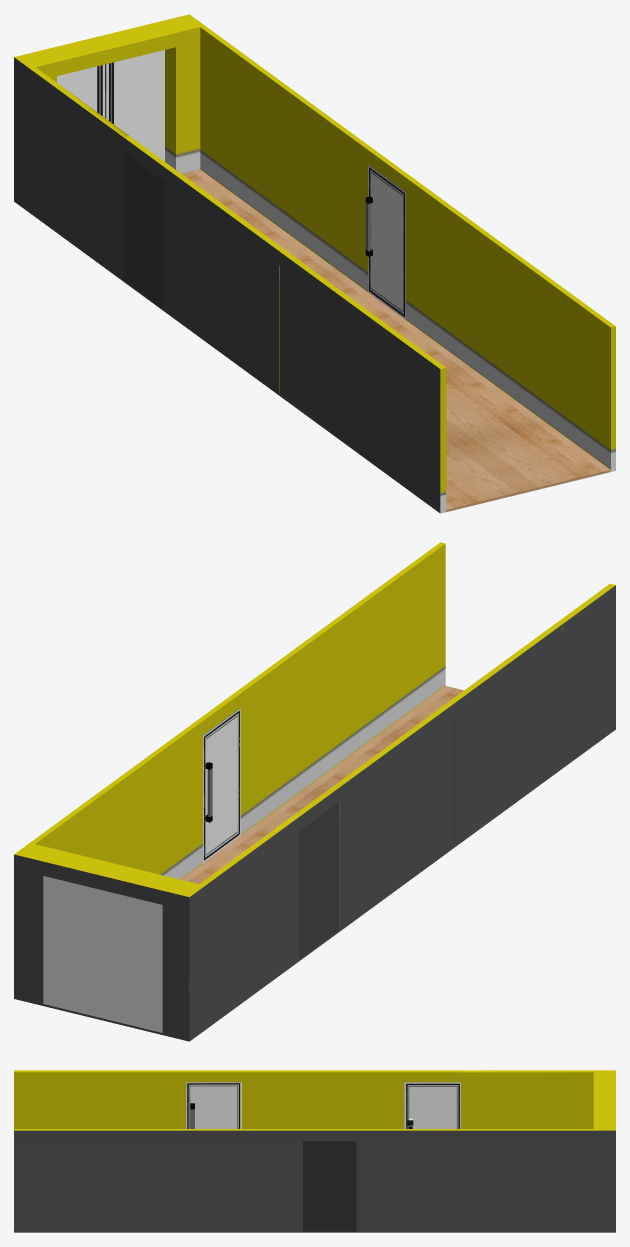
Rendered from Corridoor.FBX.
3 renders of one model, top to bottom at view 1: azimuth 30°, elevation 25°; view 2: azimuth 150°, elevation 25°; view 3: azimuth 270°, elevation 25°, orthographic. The views are drawn at different scales.
Parts seen in each view (by area): view 1: Box001, Object004, Object003, Object002, Object001; view 2: Box001, Object004, Object003, Object002, Object001; view 3: Box001, Object001, Object003, Object002.
Part boxes in pixels (bbox=[...]): Box001: bbox=[14, 14, 615, 513]; Object004: bbox=[57, 50, 164, 161]; Object003: bbox=[123, 152, 163, 308]; Object002: bbox=[279, 265, 318, 421]; Object001: bbox=[365, 164, 405, 319]; Box001: bbox=[14, 542, 615, 1041]; Object004: bbox=[43, 876, 162, 1032]; Object003: bbox=[299, 802, 339, 958]; Object002: bbox=[454, 689, 493, 844]; Object001: bbox=[203, 708, 240, 862]; Box001: bbox=[14, 1070, 615, 1232]; Object001: bbox=[303, 1140, 356, 1231]; Object003: bbox=[404, 1082, 460, 1128]; Object002: bbox=[186, 1082, 241, 1128].
Size of the model in its own units: 124 by 97.34 by 521.
